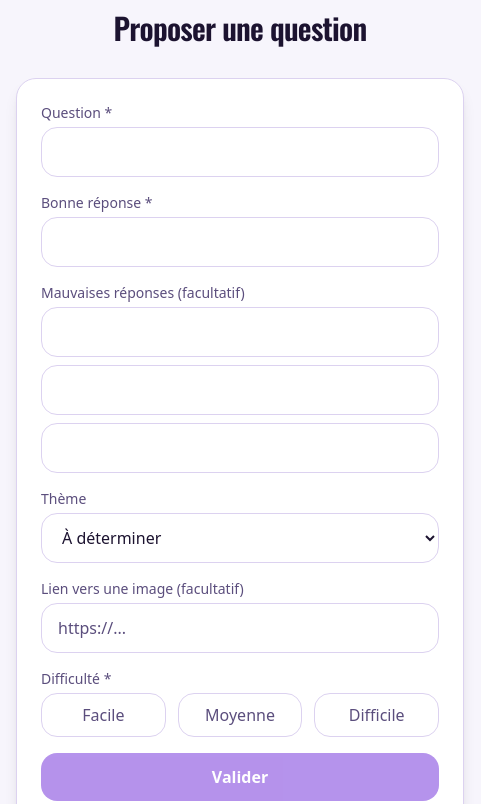
Test case: Propositions › shows a confirmation and resets the form on successful submission
Type "Capitale de la France ?" into the field labelled "Question *" at (240,152), box 41,127 -> 439,177
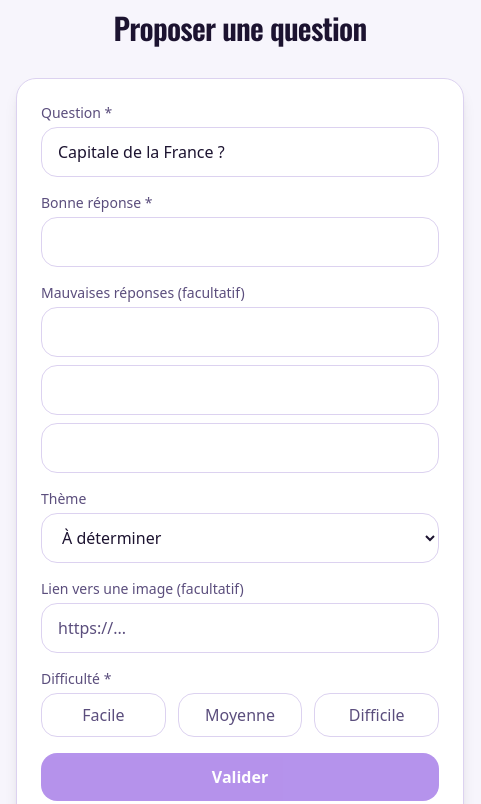
Type "Paris" into the field labelled "Bonne réponse *" at (240,242), box 41,217 -> 439,267
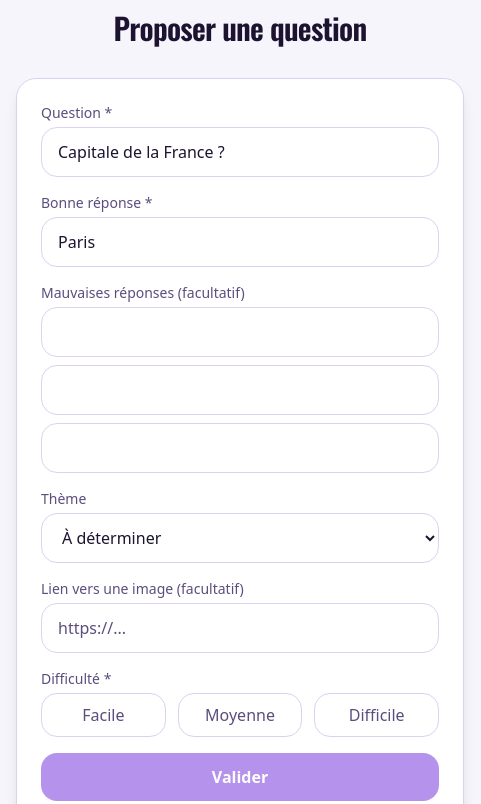
Click the button "Facile" at (103,715), box 41,693 -> 166,737
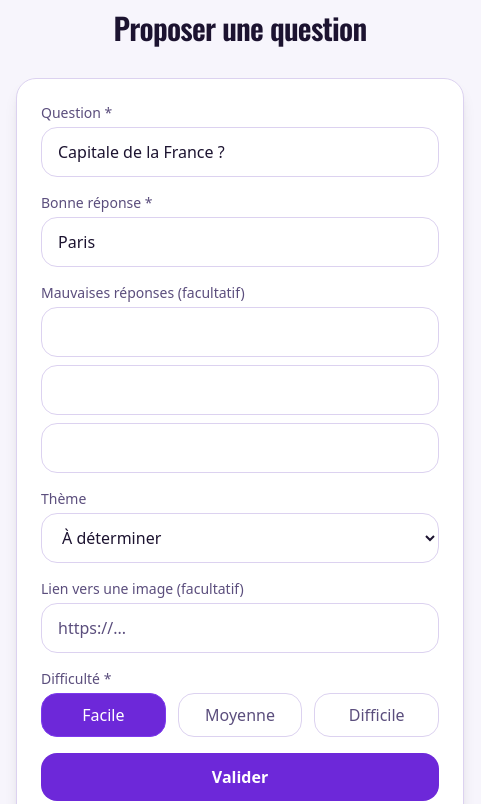
Click the button "Valider" at (240,777), box 41,753 -> 439,801
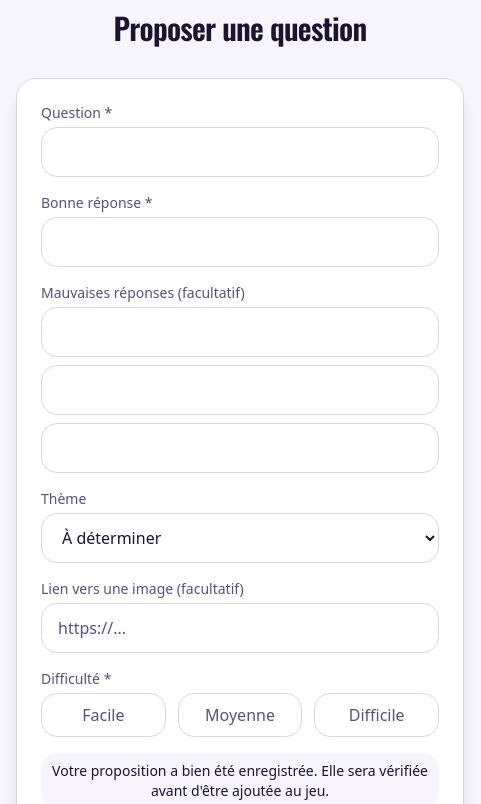
Check: the text "sera vérifiée avant d'être ajoutée au jeu" is shown, box 52,761 -> 428,800
Check: the field labelled "Question *" is empty, box 41,127 -> 439,177
